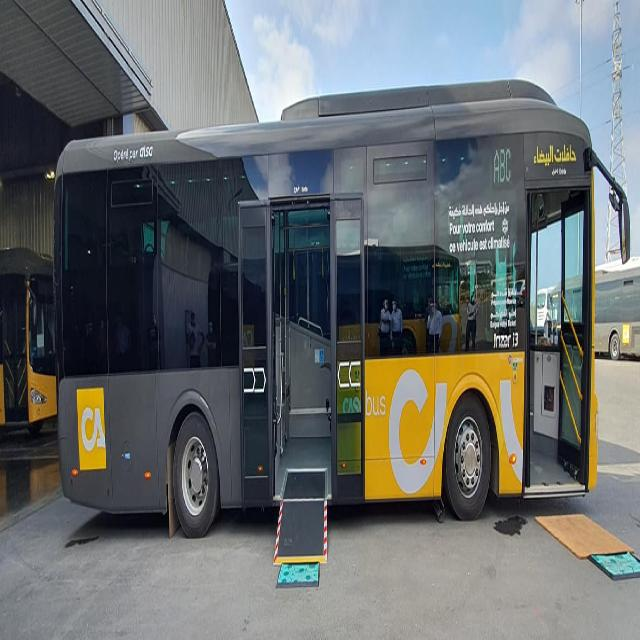Bus: (50, 76, 630, 537)
